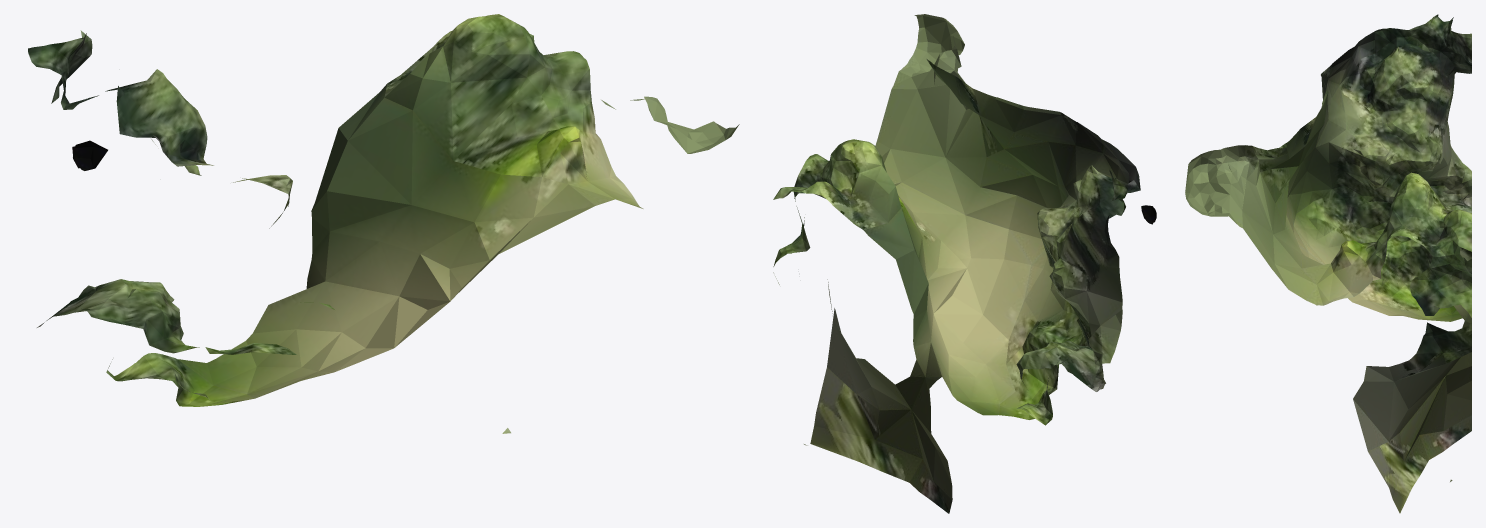
3 renders of one model, left to right at view 1: azimuth 30°, elevation 25°; view 2: azimuth 150°, elevation 25°; view 3: azimuth 270°, elevation 25°, orthographic. The views are drawn at different scales.
Size of the model in its own units: 26.11 by 26.11 by 19.9.
Materials: 4 (4 with a texture image).
